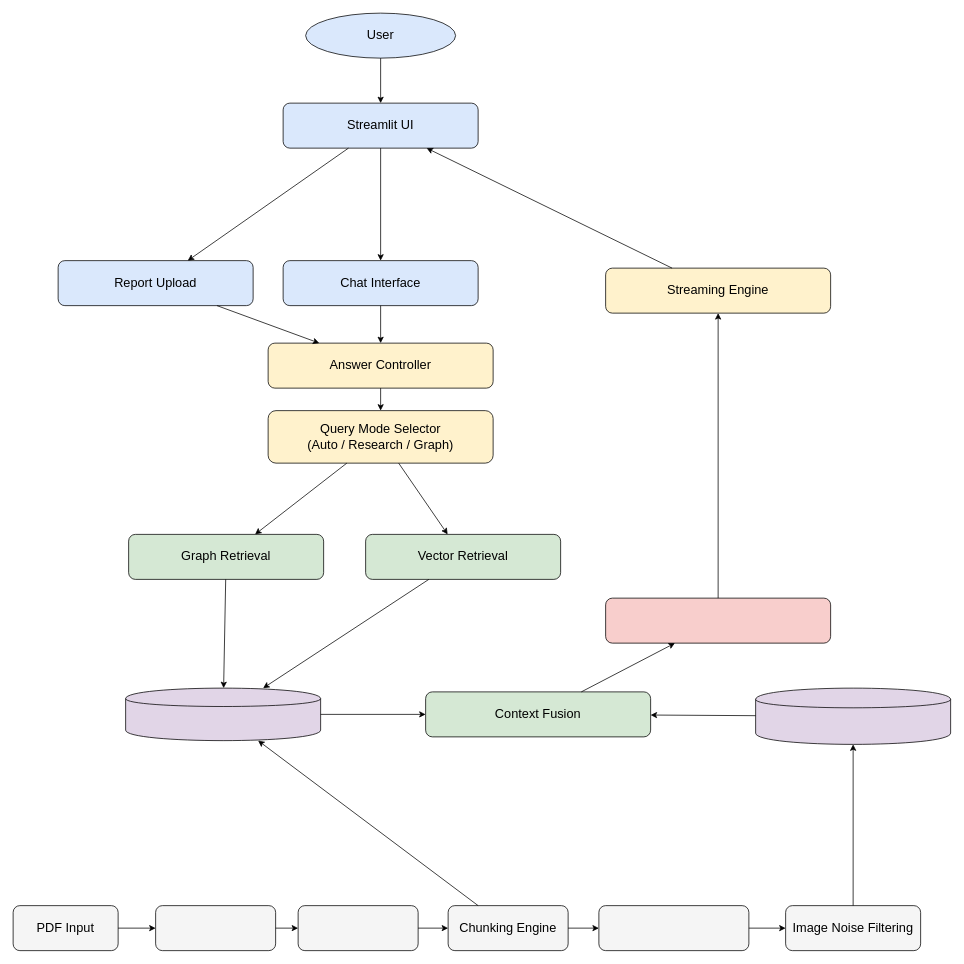
Some shapes in this 964 by 964 pixel diagram are drawn without their labels. The box of each missing label's shape, as (x1, y1, x2, y2) in pixels:
Caption + Image Extraction: (598, 905, 749, 951)
Chunks + Images Storage: (755, 687, 951, 744)
Docling / PyMuPDF: (155, 905, 276, 951)
LLM Generation: (605, 597, 831, 643)
Neo4j Vector DB: (125, 687, 321, 741)
Text Cleaning: (297, 905, 418, 951)
